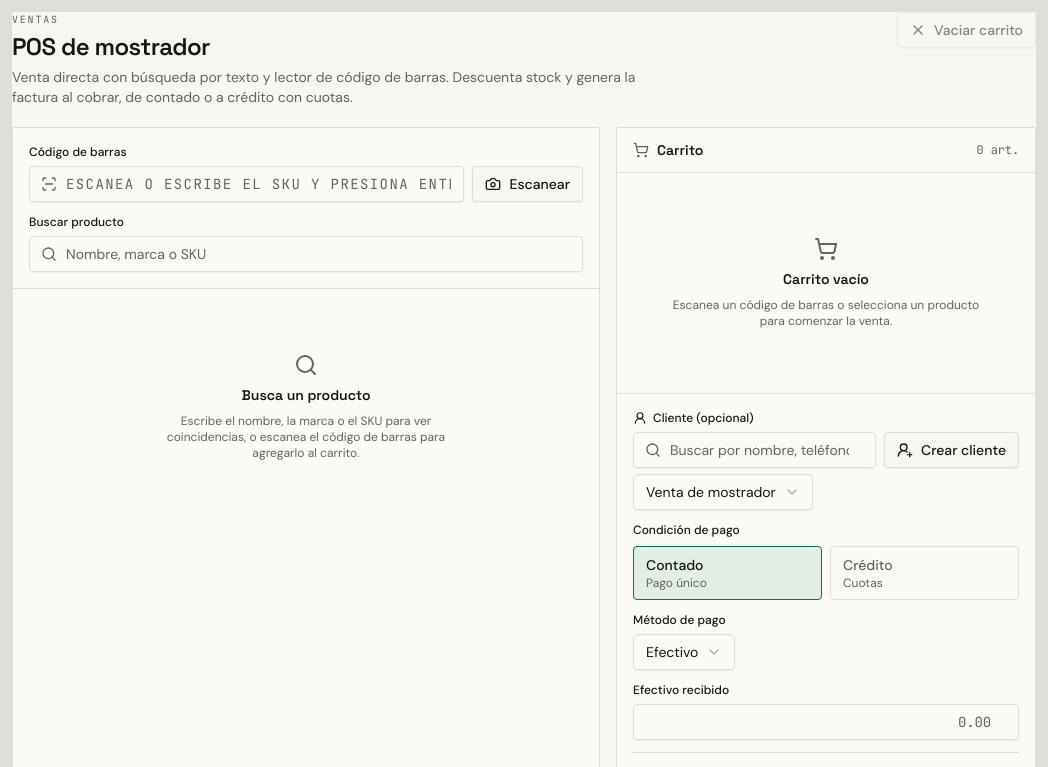
PosPage customer search by phone, document and plate (characterization) › shows the no-results message for a term that matches no customer
The width and height of the screenshot is (1048, 767).
In the search field with test id "pos.customer_search_input": (754, 450) [633,432,876,468], type "ZZZ-999"
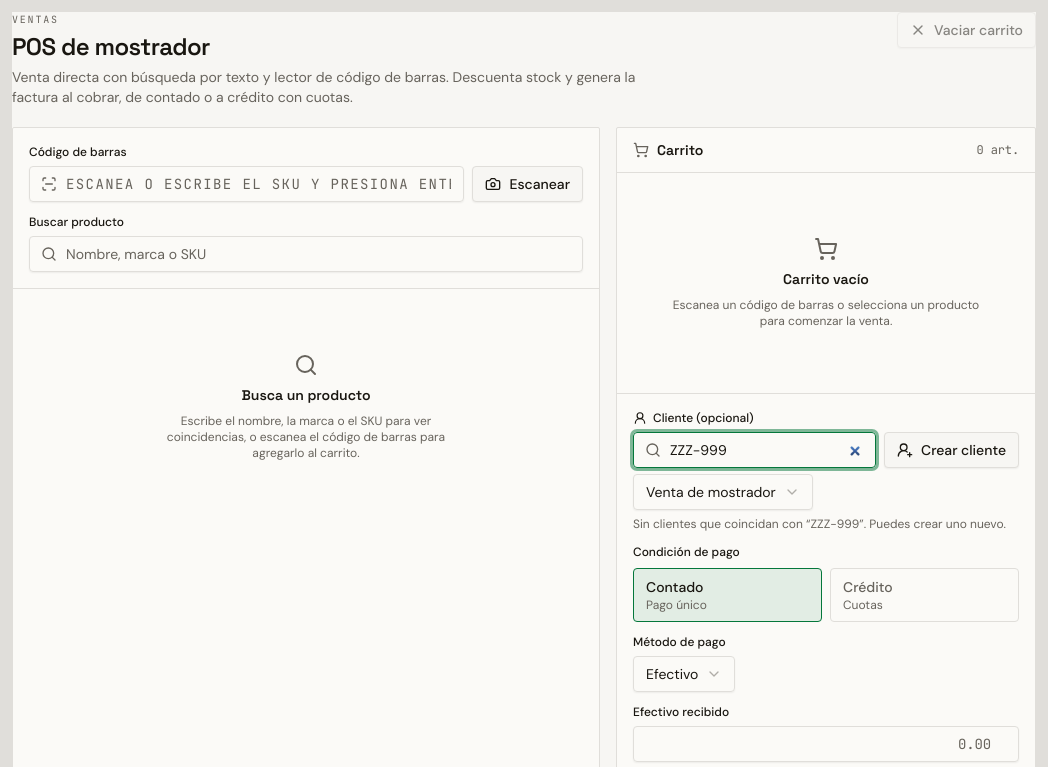
expect the text with test id "pos.customer_search_empty_state" shows "Sin clientes que coincidan": met, box [633,516,810,532]
expect the text with test id "pos.customer_search_empty_state" shows "ZZZ-999": met, box [810,516,859,532]
